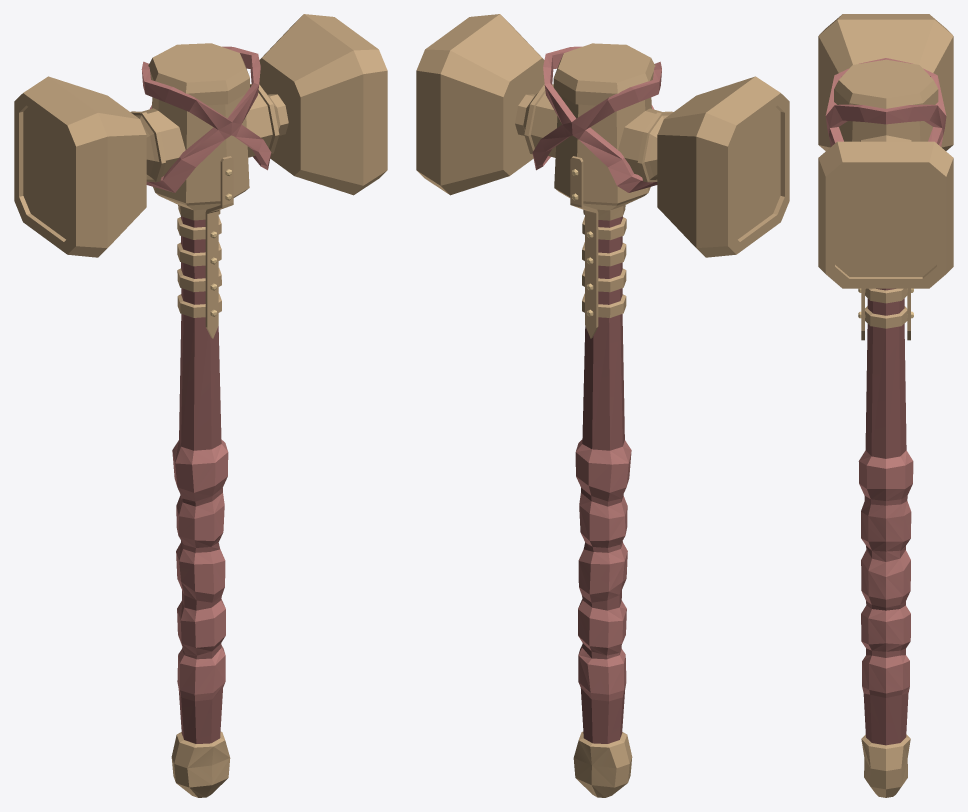
The model's file is martillo_guerra.glb.
3 renders of one model, left to right at view 1: azimuth 30°, elevation 25°; view 2: azimuth 150°, elevation 25°; view 3: azimuth 270°, elevation 25°, orthographic. The views are drawn at different scales.
Parts seen in each view (by area): view 1: martillo_guerra; view 2: martillo_guerra; view 3: martillo_guerra.
Boxes of the visible parts, bbox=[...] form: martillo_guerra: bbox=[14, 14, 387, 797]; martillo_guerra: bbox=[416, 14, 789, 797]; martillo_guerra: bbox=[818, 14, 953, 797].
Size of the model in its own units: 1.88 by 4.23 by 0.7251.
